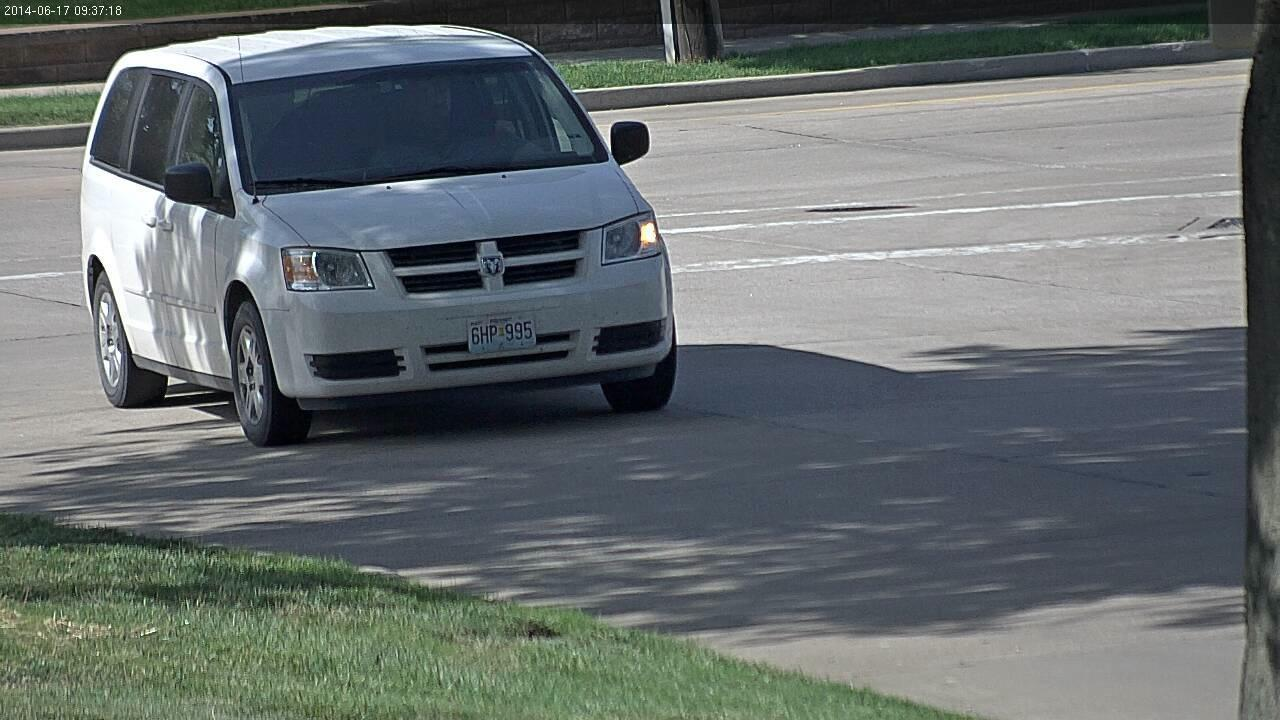placa de veiculo: (441, 302, 564, 373)
